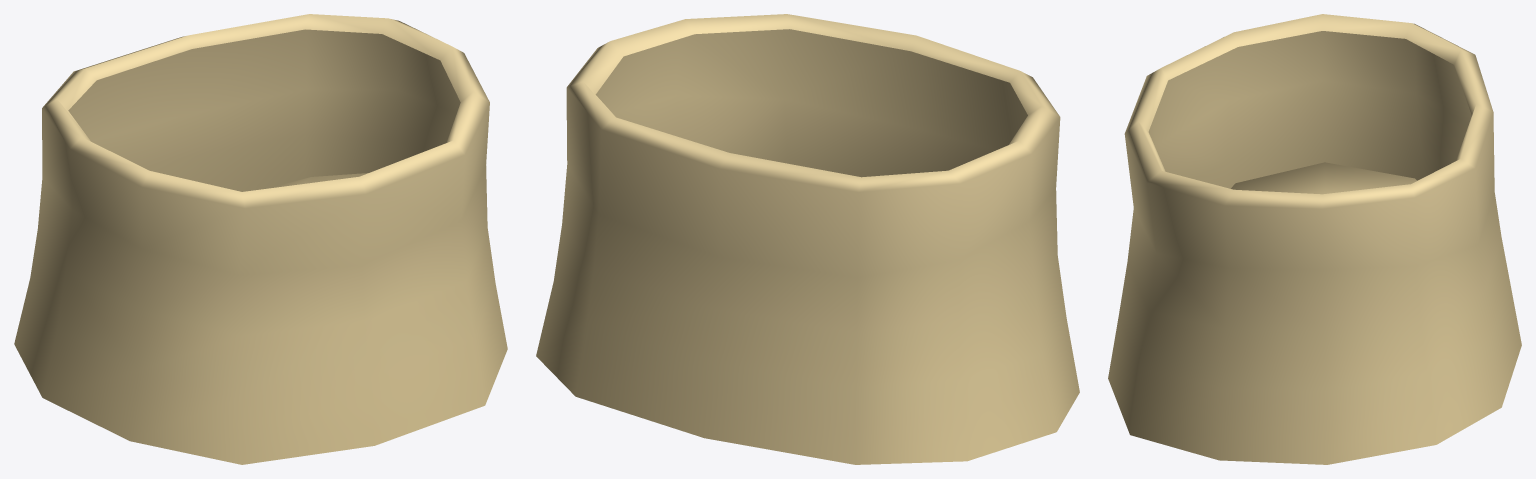
Rendered from Bottom_44.fbx.
3 renders of one model, left to right at view 1: azimuth 30°, elevation 25°; view 2: azimuth 150°, elevation 25°; view 3: azimuth 270°, elevation 25°, orthographic. The views are drawn at different scales.
Parts seen in each view (by area): view 1: Bottom_44; view 2: Bottom_44; view 3: Bottom_44.
Part boxes in pixels (bbox=[...]): Bottom_44: bbox=[14, 14, 507, 464]; Bottom_44: bbox=[536, 14, 1079, 464]; Bottom_44: bbox=[1108, 14, 1521, 464].
Bounding box in the file's own units: 43.31 × 25.69 × 35.06.
